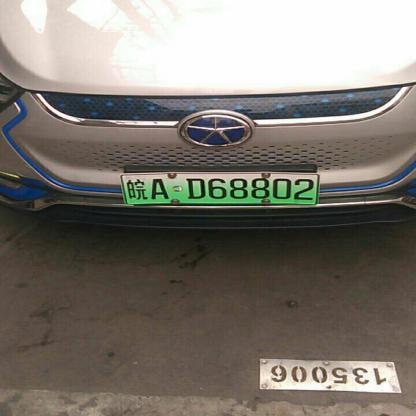lp: (119, 173, 317, 204)
